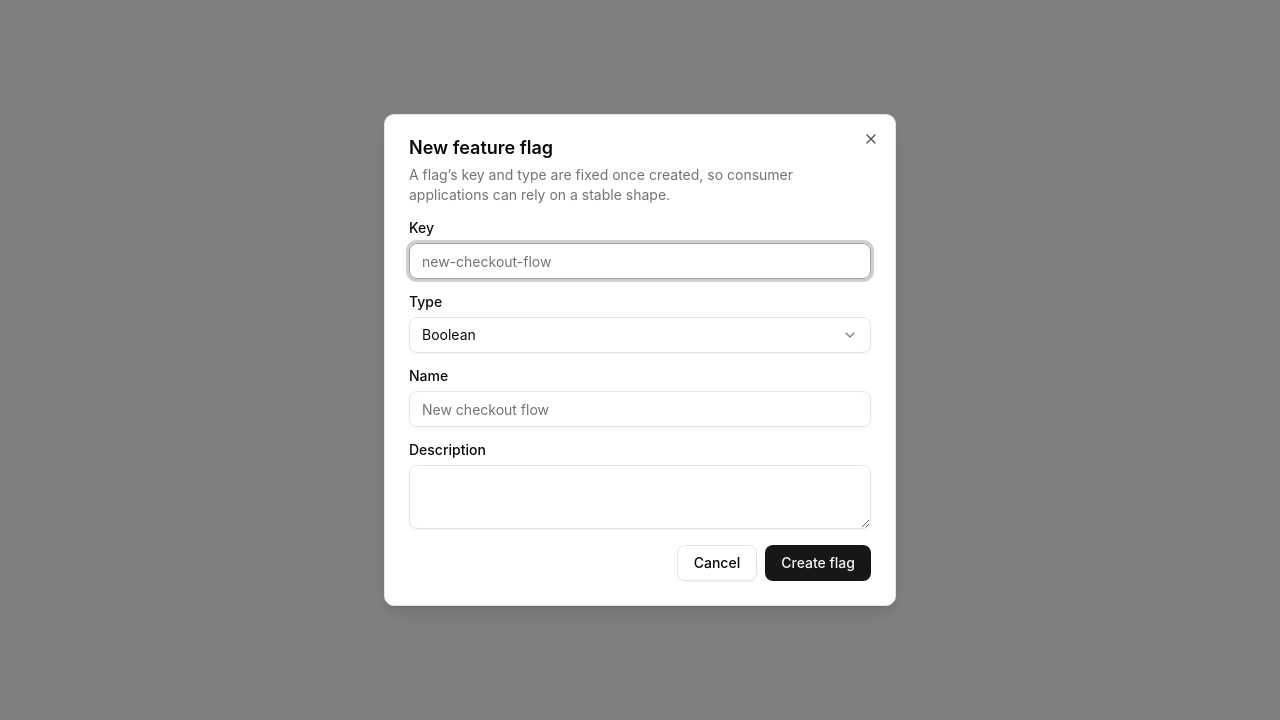
it: FeatureFlagForm › shows validation errors for missing key and name
This screenshot has width=1280, height=720.
Click the button "Create flag".
click(818, 563)  # box [765,545,871,581]
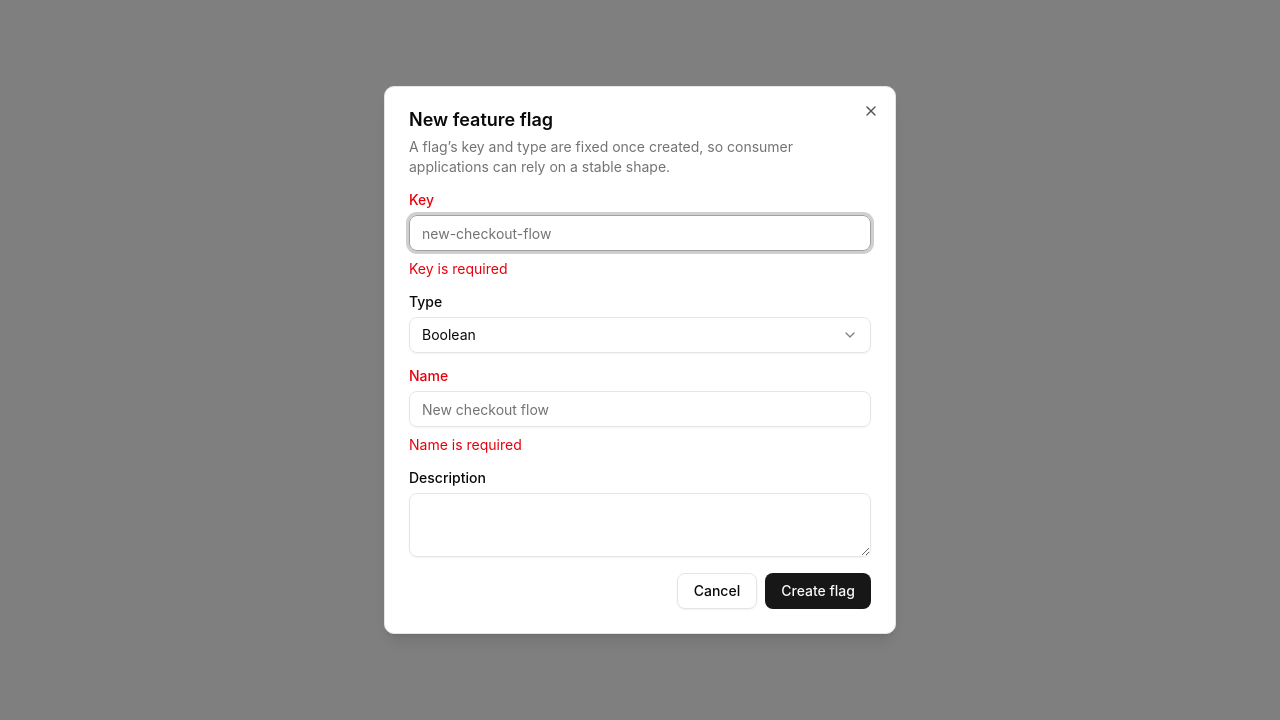
Expected: the text "Key is required" is shown, [409,260,508,277]
Expected: the text "Name is required" is shown, [409,436,522,453]
